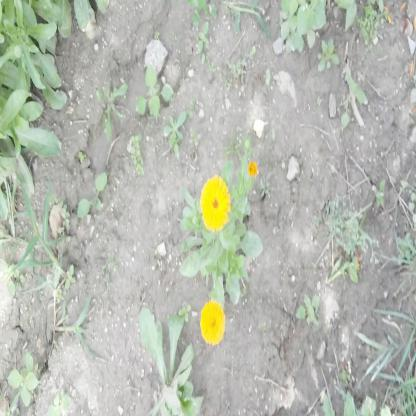marigold: (201, 178, 230, 232), (201, 300, 225, 346)
